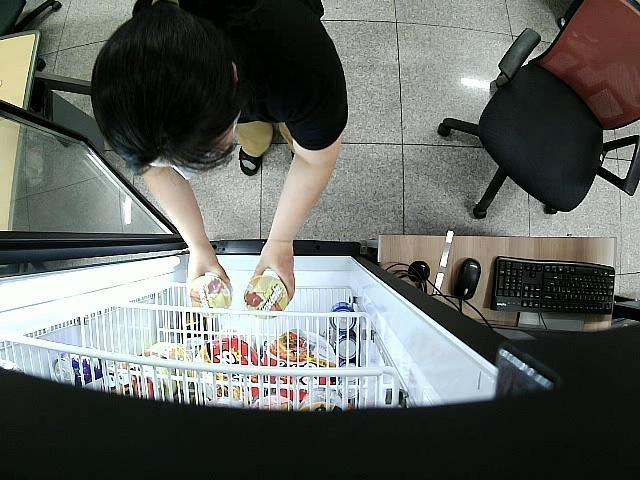04_chapagetti_S: (188, 273, 232, 318), (244, 274, 289, 318)
